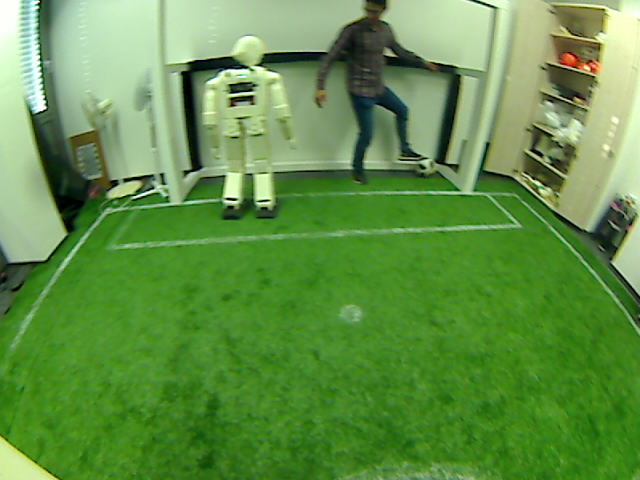ball: (414, 154, 436, 178)
goalpost: (458, 155, 477, 194), (166, 169, 183, 203)
robot: (215, 143, 281, 218)
